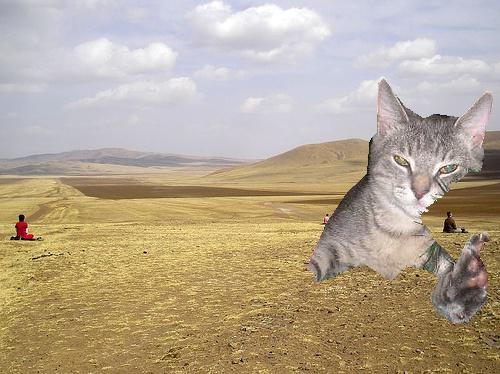tampered: (308, 79, 493, 323)
